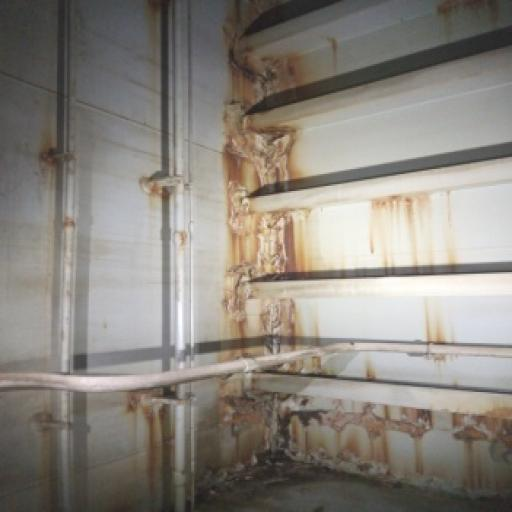Detect-rust-on-metal-surfaces: (142, 1, 511, 510), (434, 1, 509, 36), (39, 131, 74, 173), (138, 0, 171, 20)
